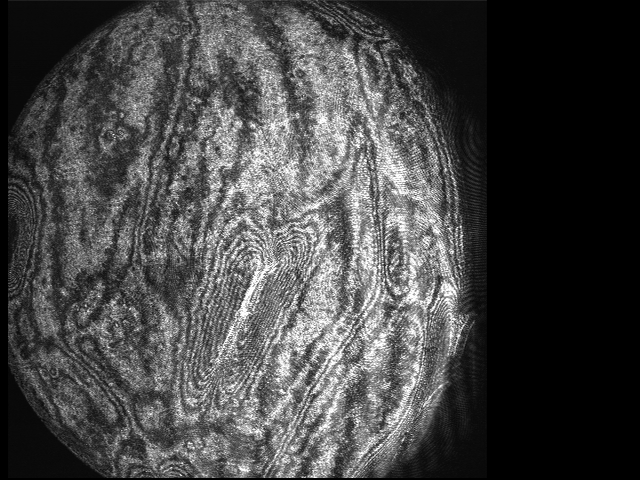plume: (181, 224, 308, 394)
